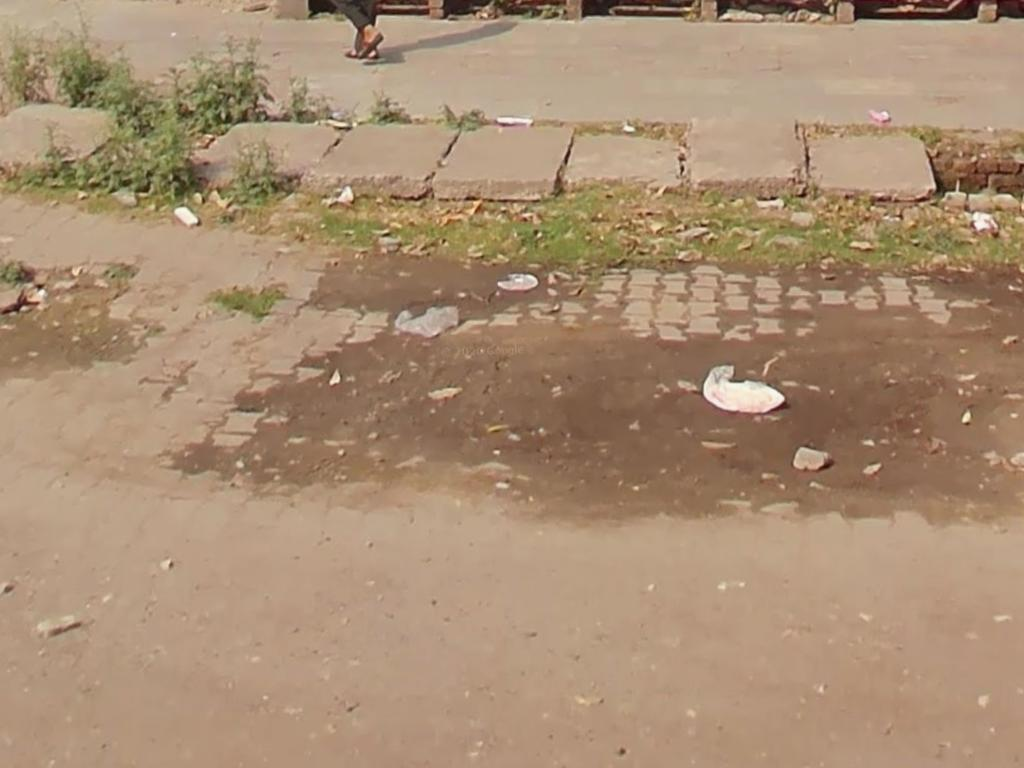garbage: (696, 356, 787, 421)
